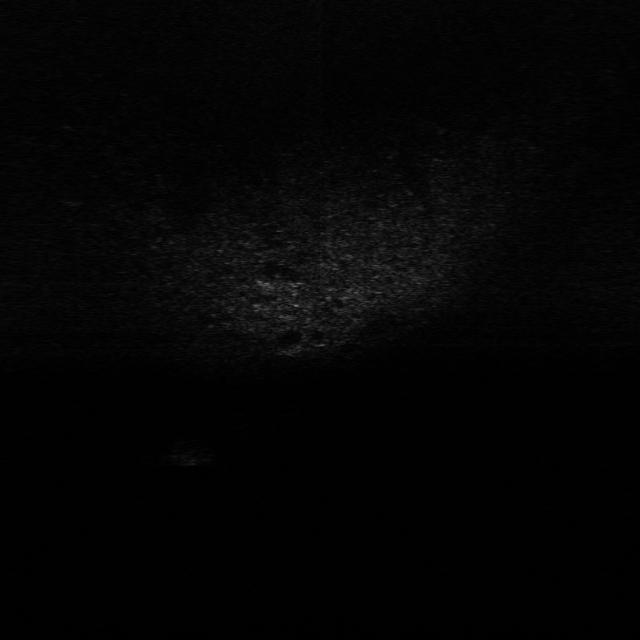circle cage: (159, 435, 217, 466)
